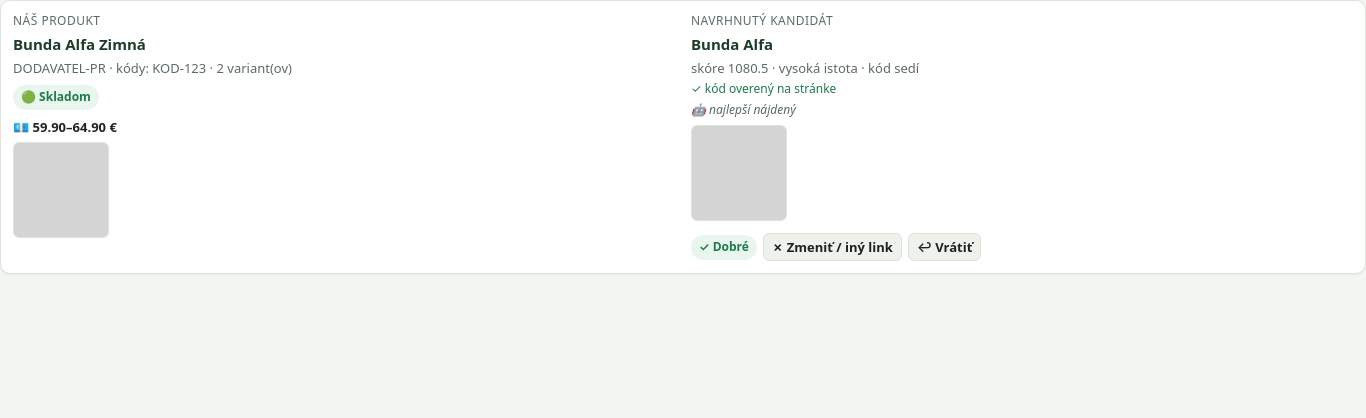
Scenario: rozhodnutie 'good' ukáže AJ '✗ Zmeniť / iný link' — klik otvorí panel s kandidátmi, ŽIADNA terminálna poznámka
Click the button with test id "pairing-review-change-PR-4".
click(832, 247)  # box [763,233,902,261]
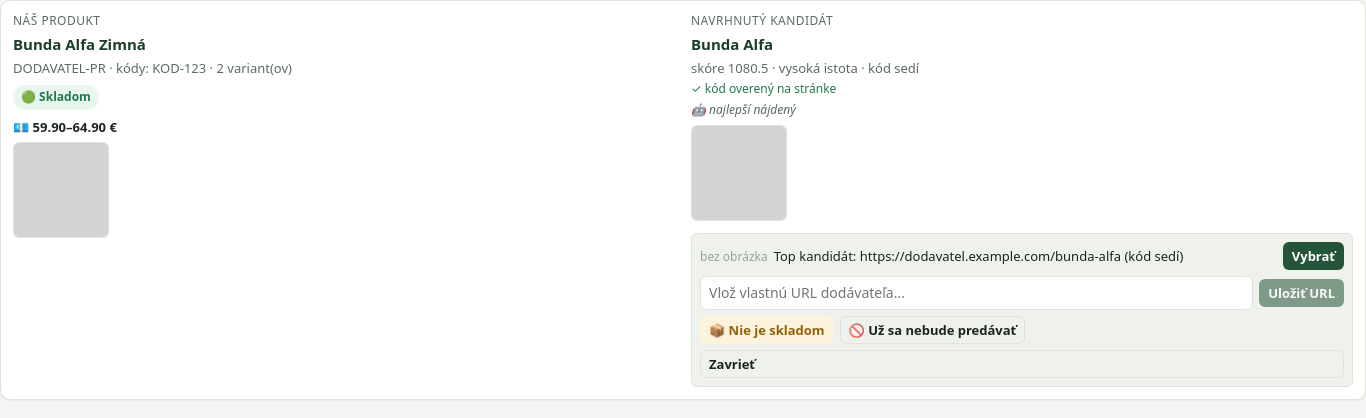
Now the element with test id "pairing-review-panel-PR-4" is shown, box [691,233,1353,387]
